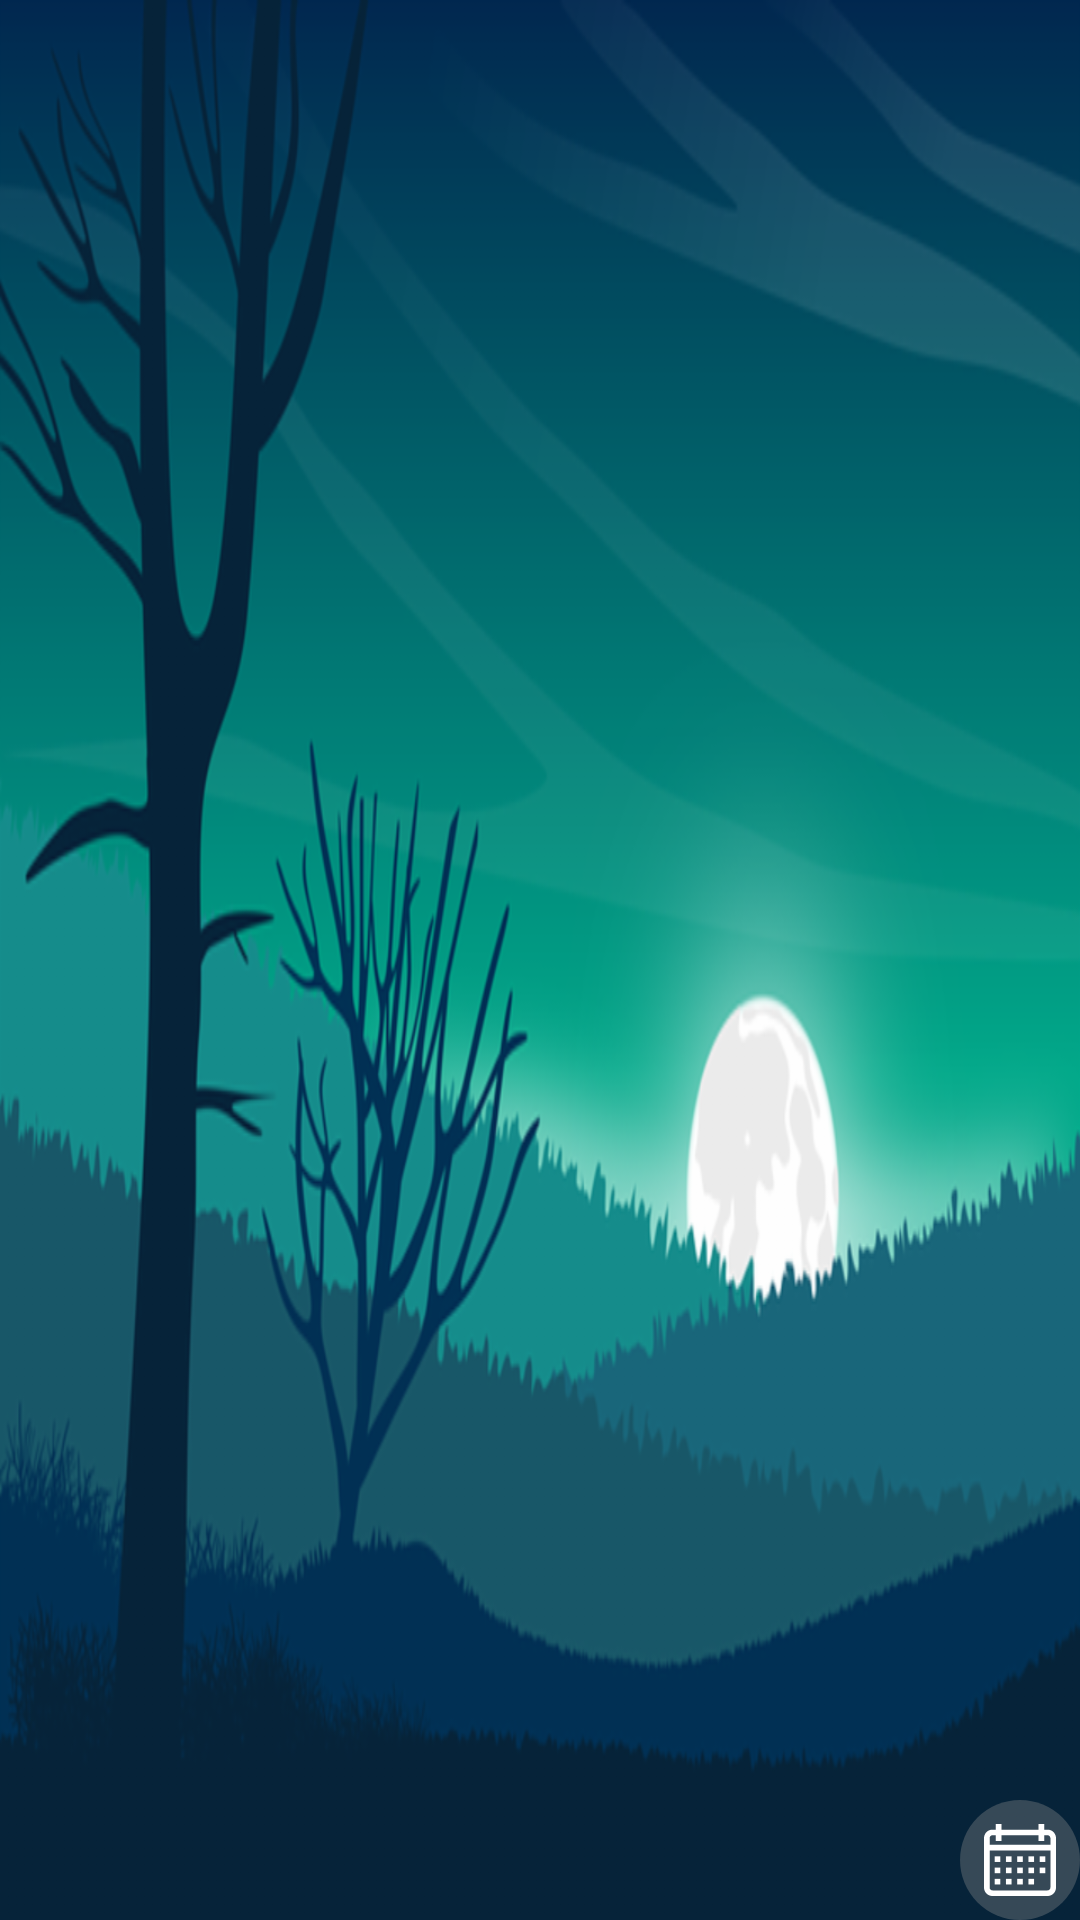

Icons on this 1080 × 1920 Android screen, each with its box as region(x1, y1, x2, y2):
calendar: region(960, 1800, 1080, 1920)
